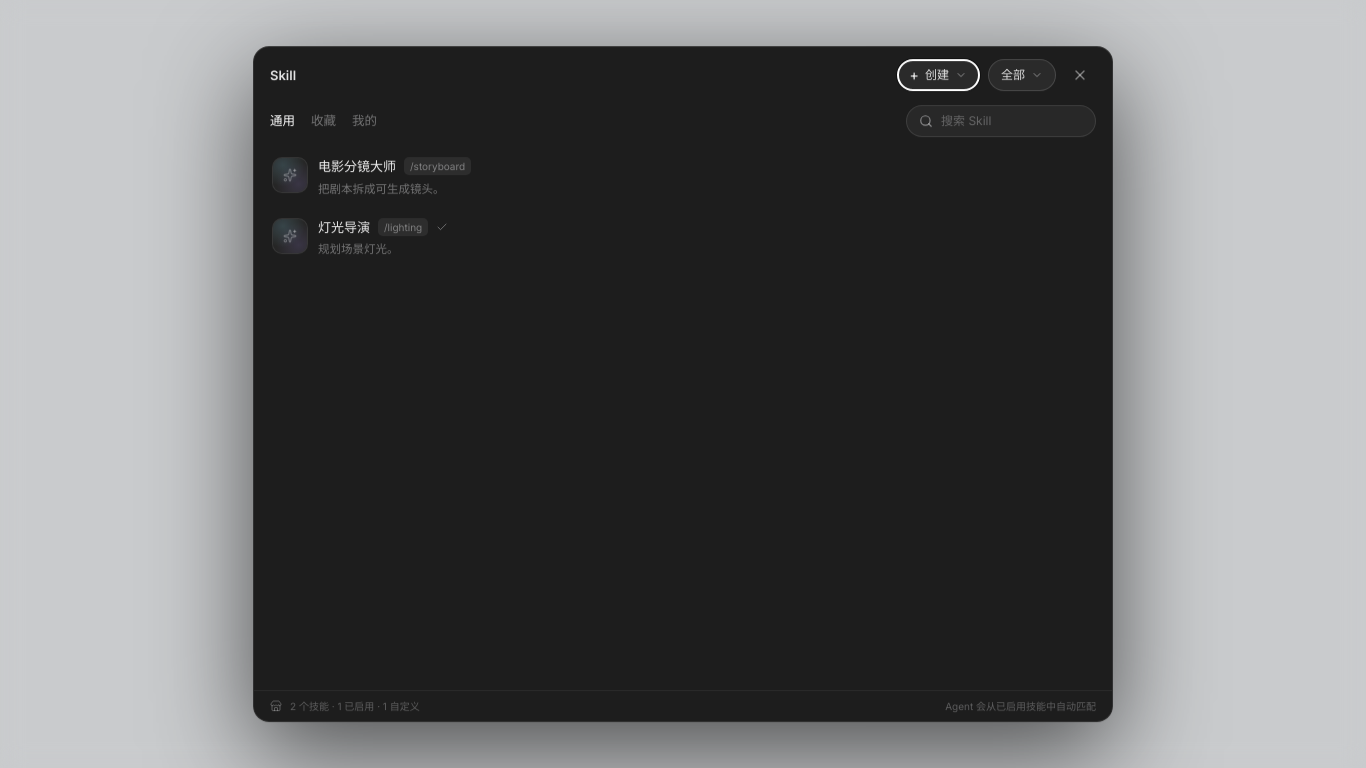
Test case: SkillStoreDialog › filters to my skills from the scope menu
The width and height of the screenshot is (1366, 768).
Check: the text "电影分镜大师" is shown, box [318,157,396,176]
Click the button with aria-label "筛选技能范围" at (1022, 75), box [988,59,1056,91]
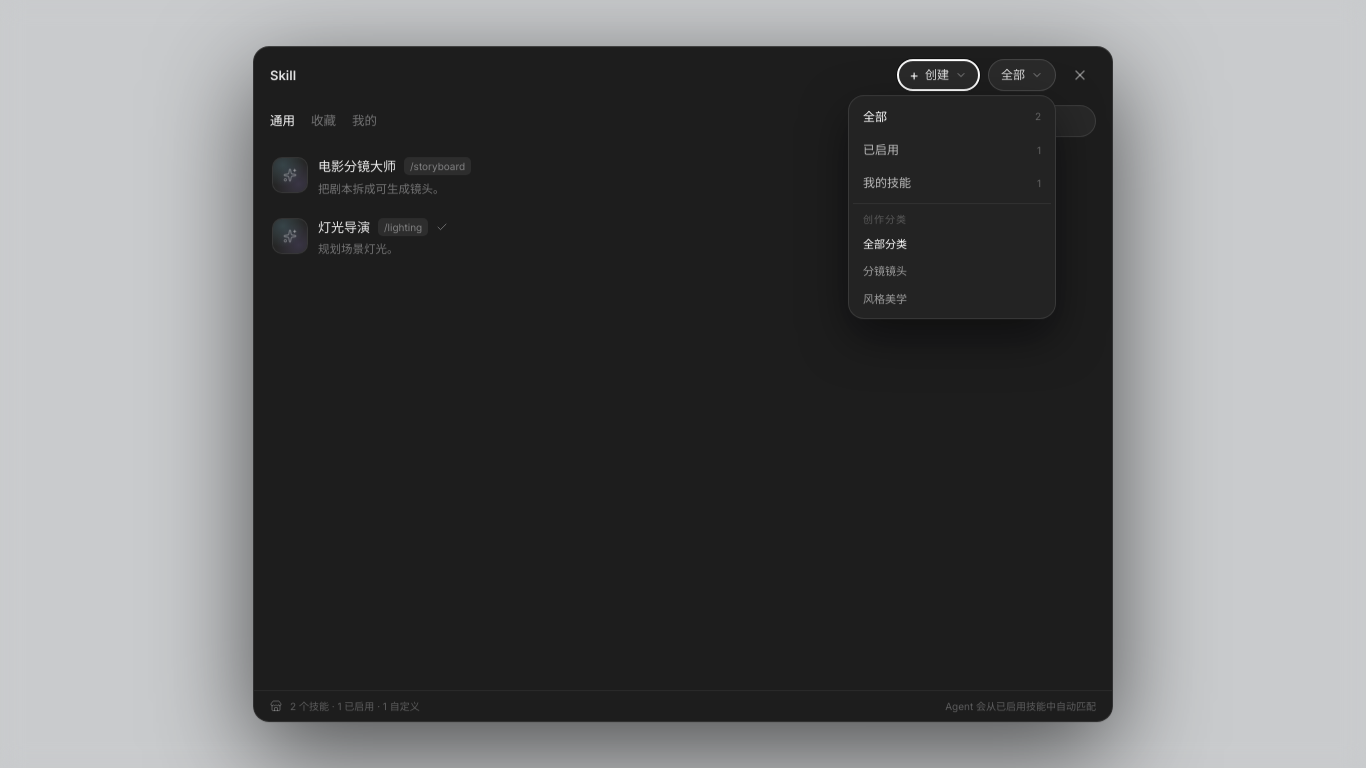
Click the menu item "我的技能 1" at (952, 183), box [853,166,1051,200]
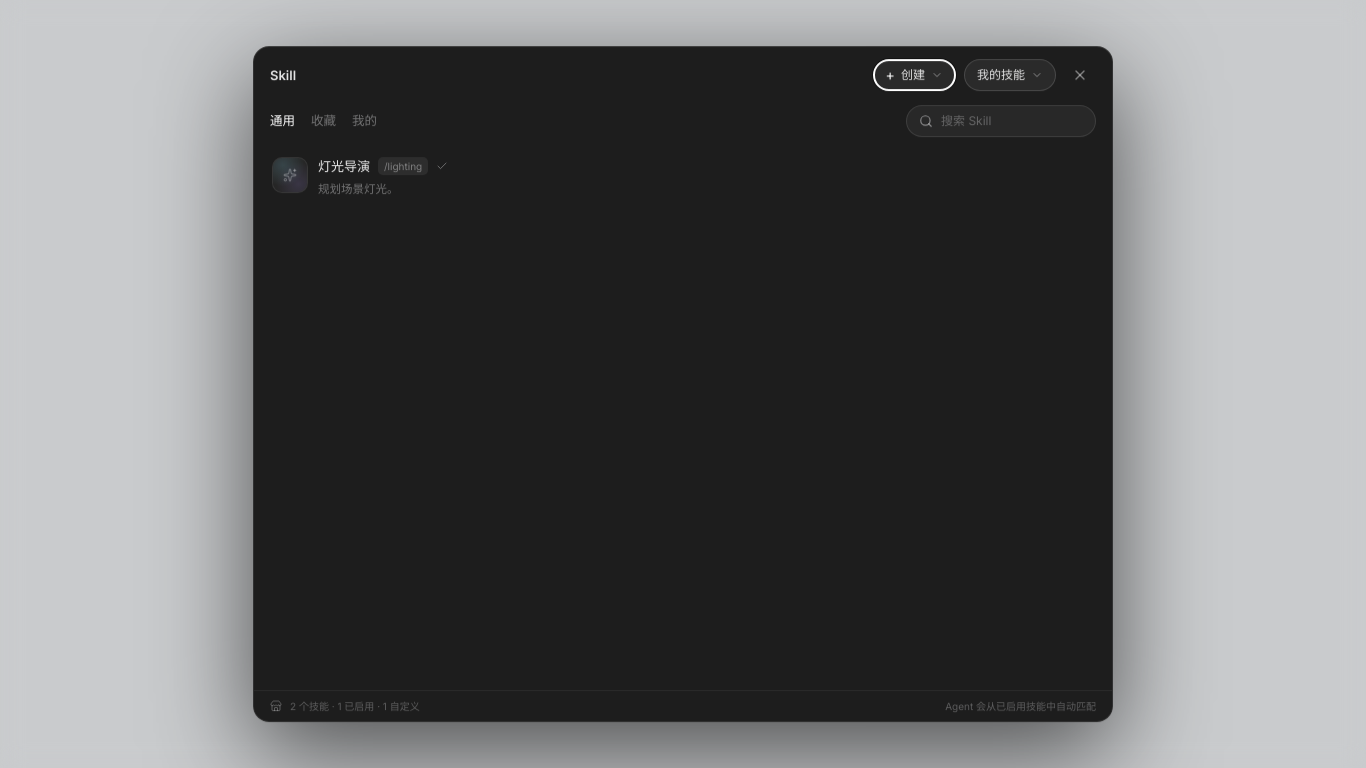
Check: the text "灯光导演" is shown, box [318,157,370,176]
Check: the button "电影分镜大师" is gone
